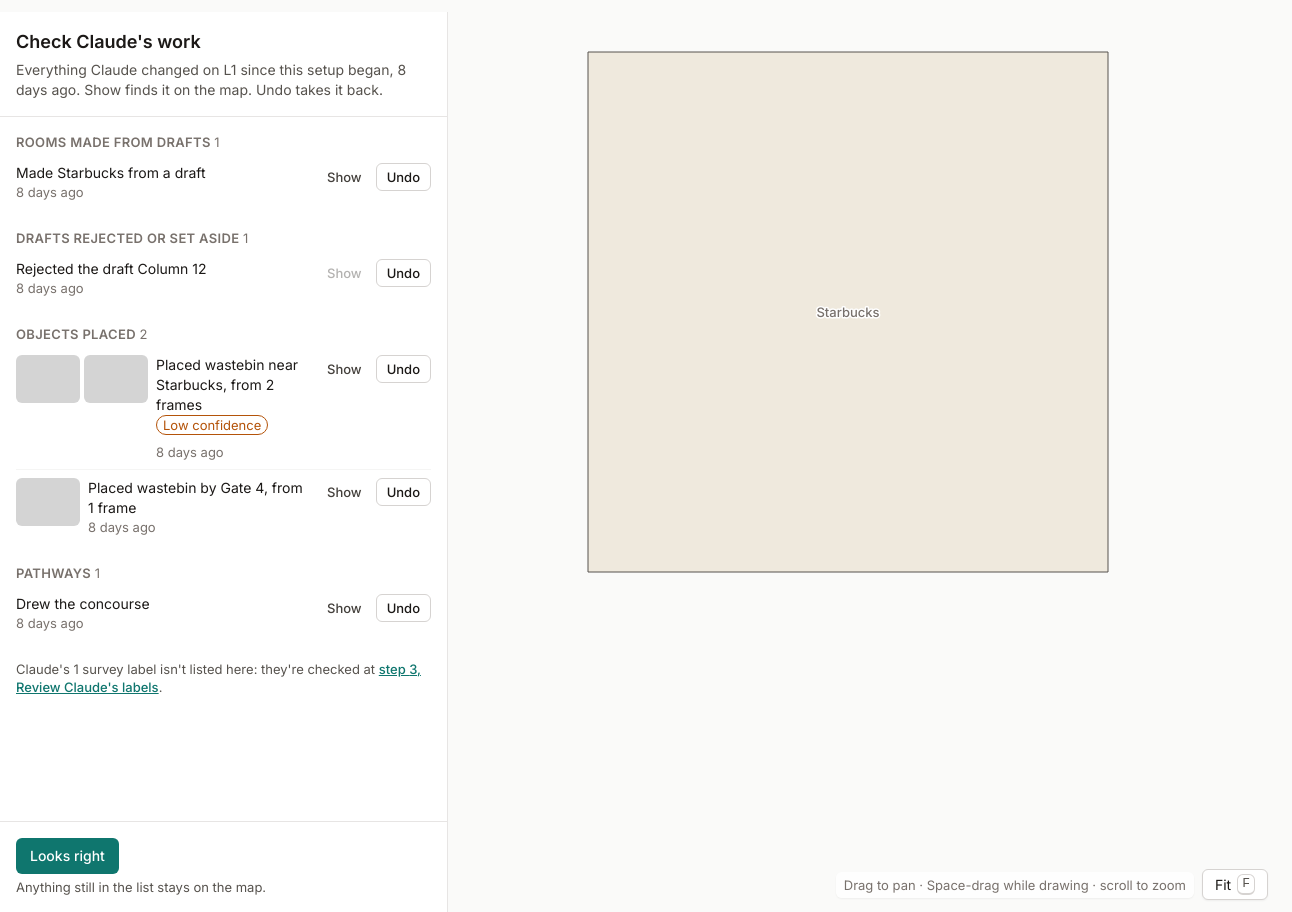
it: CheckStep › says why an undo is refused, on its row
Click the button with aria-label "Undo: Made Starbucks from a draft" at (403,177), box [376,163,431,191]
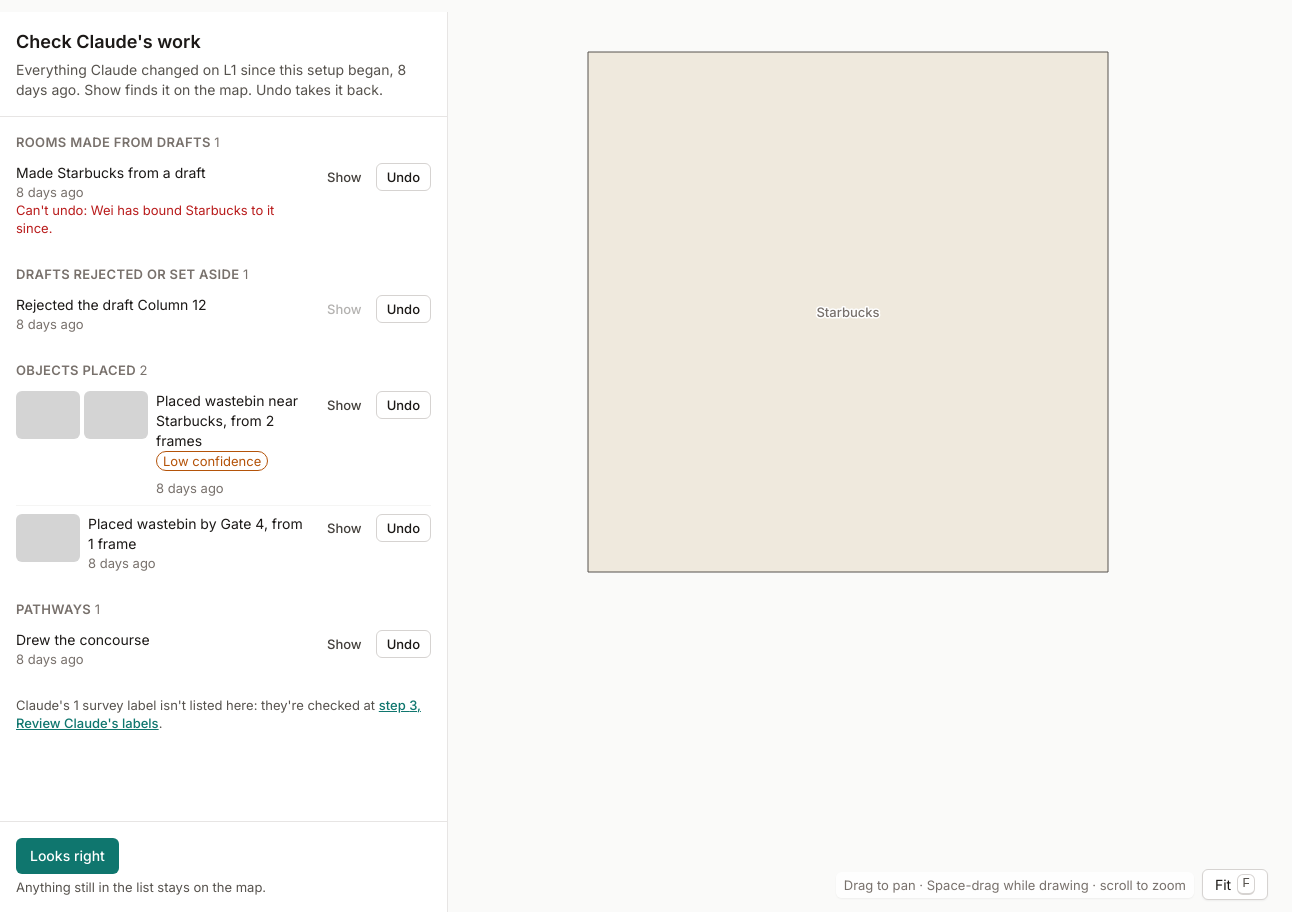
Expected: the message reads "Can't undo: Wei has bound Starbucks to it since.", [16,201,309,237]
